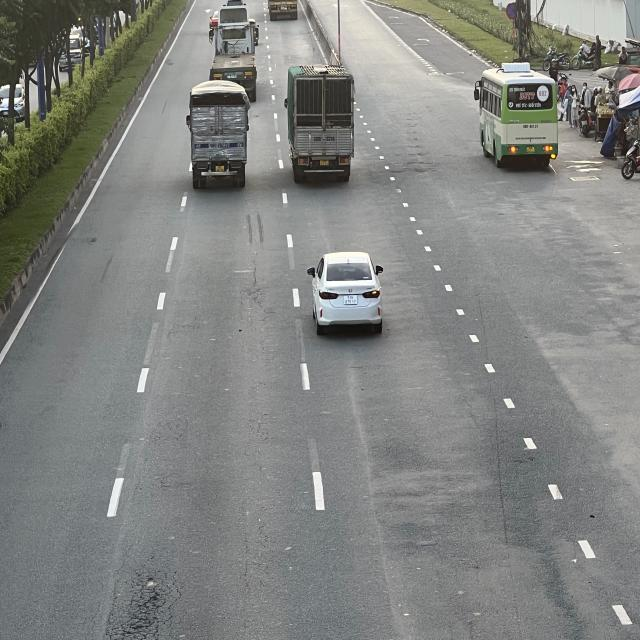car: (308, 250, 385, 334)
coach: (474, 65, 560, 164)
container: (208, 13, 256, 99)
truck: (286, 64, 358, 180), (187, 83, 248, 191)
